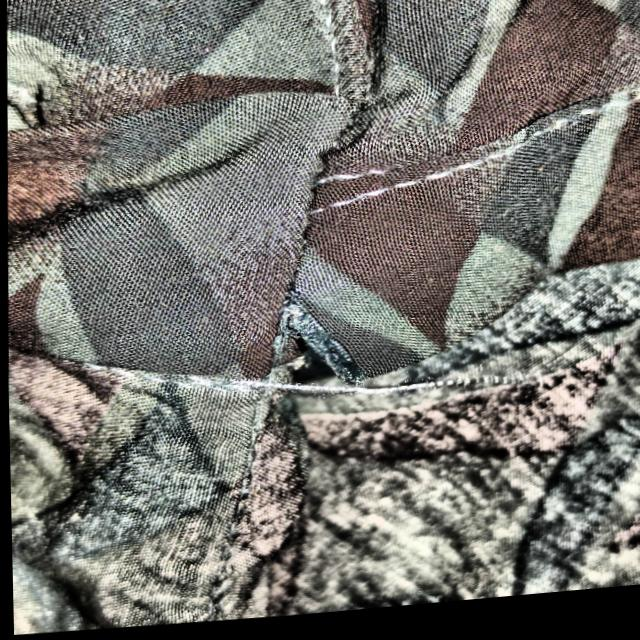Stitch: (237, 274, 573, 503)
